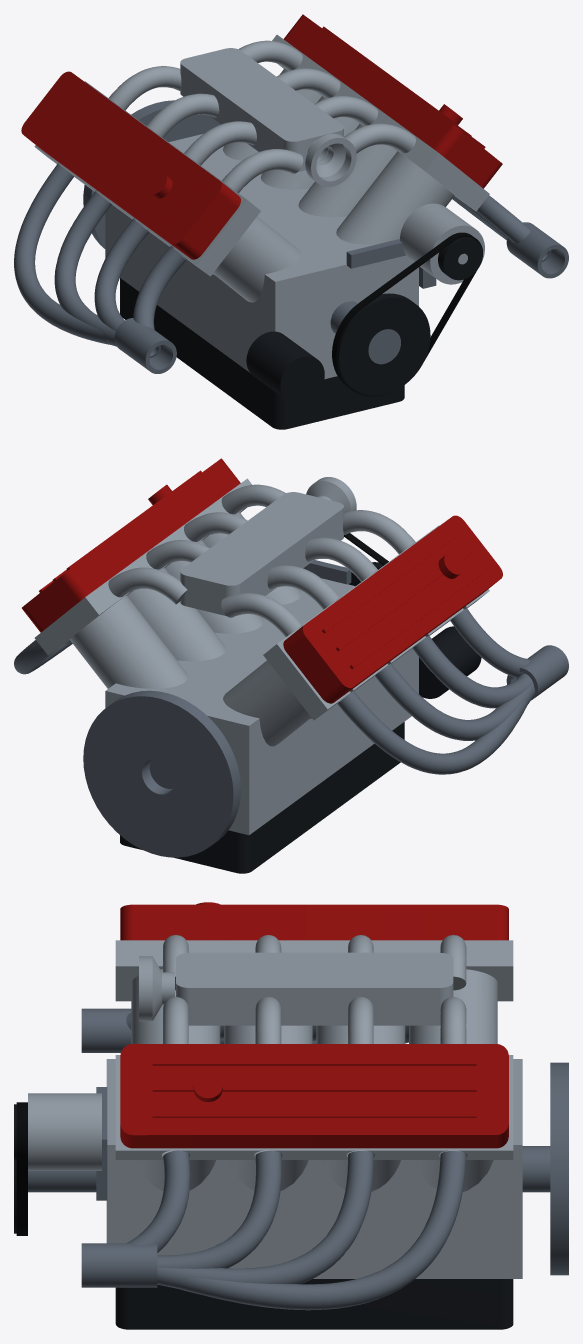
Rendered from engine.glb.
3 renders of one model, top to bottom at view 1: azimuth 30°, elevation 25°; view 2: azimuth 150°, elevation 25°; view 3: azimuth 270°, elevation 25°, orthographic. The views are drawn at different scales.
Visible parts, largest first — view 1: Engine_block, Intake_plenum_and_runners, Valve_cover_-1, Exhaust_manifold_-1, Valve_cover_1, Oil_pan, Crank_pulley, Oil_filter, Exhaust_manifold_1, Alternator, Cylinder_head_1, Cylinder_head_-1 (+6 smaller); view 2: Engine_block, Intake_plenum_and_runners, Flywheel, Valve_cover_-1, Exhaust_manifold_-1, Valve_cover_1, Oil_pan, Cylinder_head_1, Cylinder_head_-1, Oil_filter, Throttle_body, Exhaust_manifold_1 (+2 smaller); view 3: Engine_block, Valve_cover_1, Intake_plenum_and_runners, Exhaust_manifold_1, Oil_pan, Valve_cover_-1, Cylinder_head_-1, Alternator, Cylinder_head_1, Flywheel, Crank_axis_shaft, Exhaust_manifold_-1 (+3 smaller).
Part boxes in pixels (bbox=[...]): Engine_block: bbox=[105, 68, 454, 379]; Intake_plenum_and_runners: bbox=[108, 40, 415, 193]; Valve_cover_-1: bbox=[21, 71, 240, 259]; Exhaust_manifold_-1: bbox=[14, 164, 186, 373]; Valve_cover_1: bbox=[284, 14, 502, 188]; Oil_pan: bbox=[120, 278, 404, 429]; Crank_pulley: bbox=[338, 293, 430, 395]; Oil_filter: bbox=[246, 331, 324, 403]; Exhaust_manifold_1: bbox=[452, 195, 568, 278]; Alternator: bbox=[400, 203, 484, 284]; Cylinder_head_1: bbox=[272, 35, 489, 211]; Cylinder_head_-1: bbox=[34, 81, 260, 276]; Engine_block: bbox=[69, 512, 418, 835]; Intake_plenum_and_runners: bbox=[108, 484, 415, 636]; Flywheel: bbox=[83, 690, 240, 857]; Valve_cover_-1: bbox=[283, 515, 502, 703]; Exhaust_manifold_-1: bbox=[337, 608, 568, 774]; Valve_cover_1: bbox=[22, 458, 240, 632]; Oil_pan: bbox=[120, 722, 404, 873]; Cylinder_head_1: bbox=[34, 478, 252, 655]; Cylinder_head_-1: bbox=[263, 525, 489, 720]; Oil_filter: bbox=[419, 626, 481, 698]; Throttle_body: bbox=[306, 477, 356, 512]; Exhaust_manifold_1: bbox=[14, 640, 72, 674]; Engine_block: bbox=[106, 969, 522, 1278]; Valve_cover_1: bbox=[120, 1044, 508, 1148]; Intake_plenum_and_runners: bbox=[163, 935, 466, 1043]; Exhaust_manifold_1: bbox=[81, 1150, 466, 1310]; Oil_pan: bbox=[115, 1279, 513, 1329]; Valve_cover_-1: bbox=[120, 902, 508, 940]; Cylinder_head_-1: bbox=[115, 940, 513, 1001]; Alternator: bbox=[28, 1093, 101, 1170]; Cylinder_head_1: bbox=[115, 1055, 513, 1159]; Flywheel: bbox=[550, 1062, 568, 1275]; Crank_axis_shaft: bbox=[28, 1146, 550, 1192]; Exhaust_manifold_-1: bbox=[81, 1008, 408, 1052].
Bounding box in the file's own units: 684 × 400 × 600.
